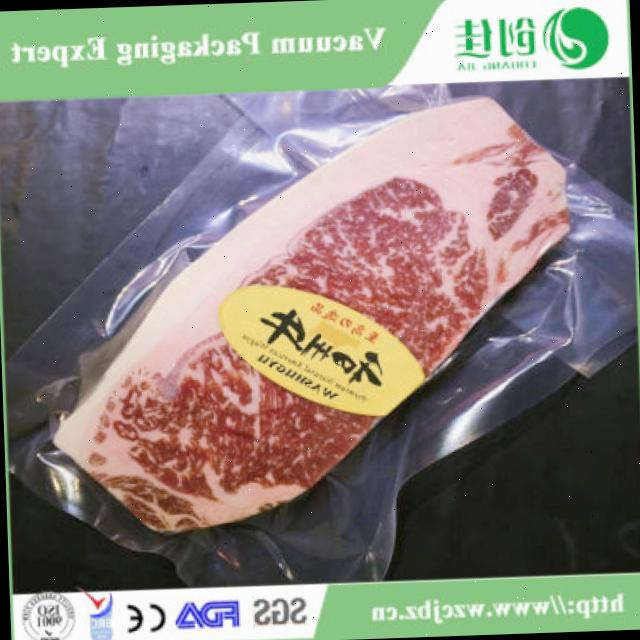meat: (22, 73, 602, 543)
